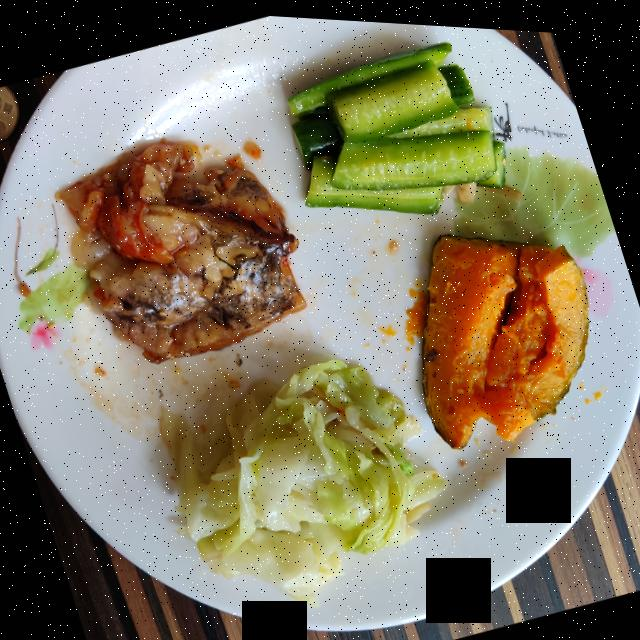Kabayaki sea bream fillet: (57, 139, 305, 362)
cabbage: (160, 356, 446, 602)
coin: (0, 86, 19, 141)
cucumber: (287, 37, 505, 209)
pumpkin: (422, 229, 588, 443)
